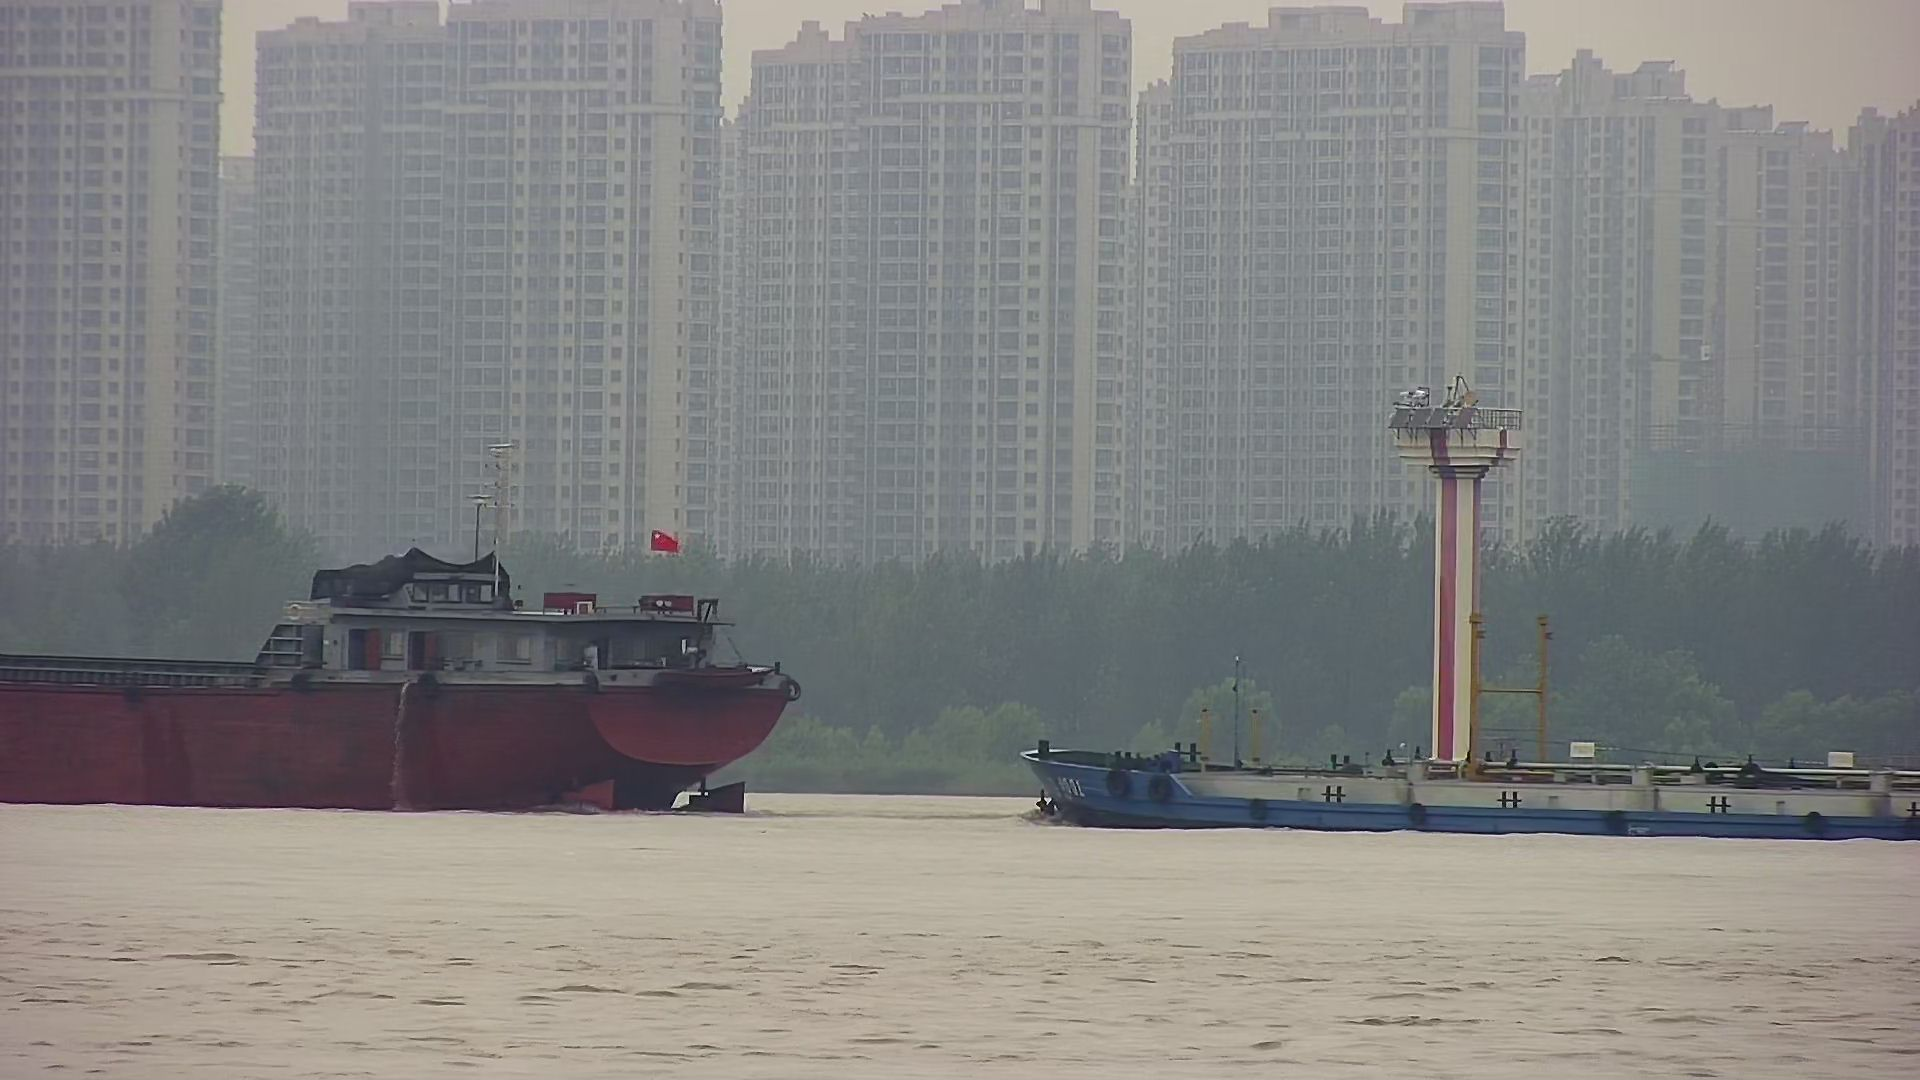platform: (1391, 384, 1516, 840)
ship: (1, 419, 800, 814), (1014, 607, 1920, 845)
